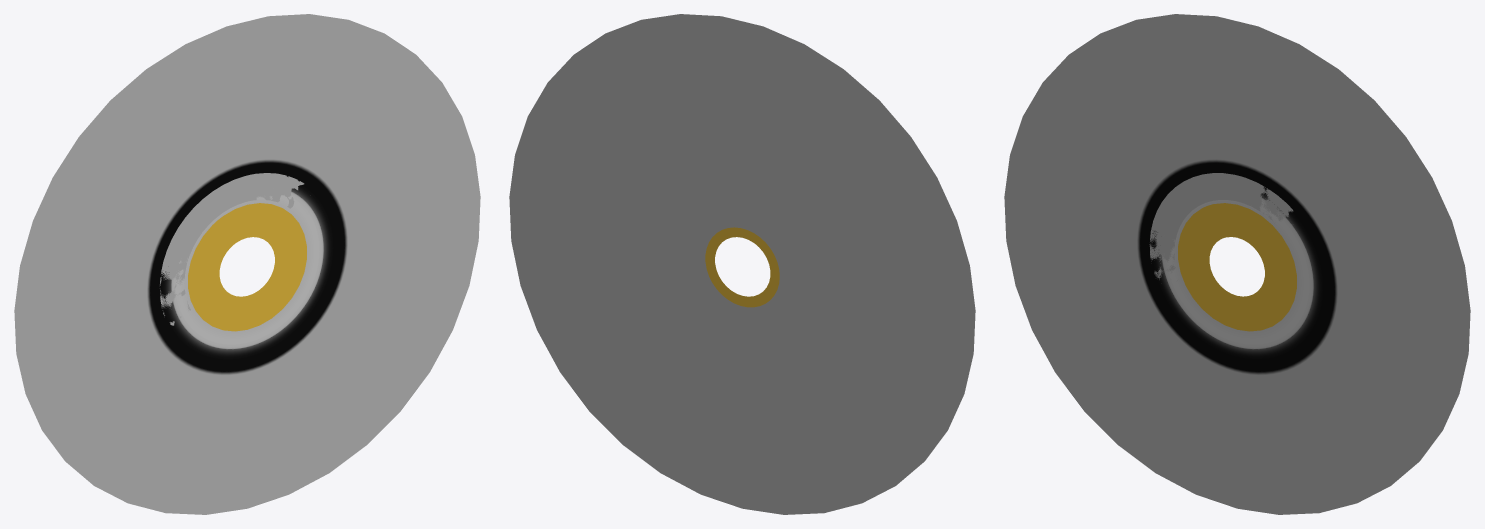
File: pref_BattleSkillDynamicSkillBtn0.fbx
3 renders of one model, left to right at view 1: azimuth 30°, elevation 25°; view 2: azimuth 150°, elevation 25°; view 3: azimuth 330°, elevation 25°, orthographic.
Parts seen in each view (by area): view 1: flare, ring1, ring2, CountdownTrans; view 2: flare, ring4 (×2), line, ring2; view 3: flare, ring1, ring2, CountdownTrans.
Part boxes in pixels (<box>): flare: <box>14,14,480,514</box>; ring1: <box>147,159,347,375</box>; ring2: <box>188,203,306,331</box>; CountdownTrans: <box>160,173,304,325</box>; flare: <box>509,14,975,514</box>; ring4 (×2): <box>649,167,834,366</box>; line: <box>645,162,840,372</box>; ring2: <box>705,227,779,307</box>; flare: <box>1004,14,1470,514</box>; ring1: <box>1137,159,1337,375</box>; ring2: <box>1178,203,1296,331</box>; CountdownTrans: <box>1149,173,1293,280</box>.
Bounding box in the file's own units: 329 × 329 × 0.011.
